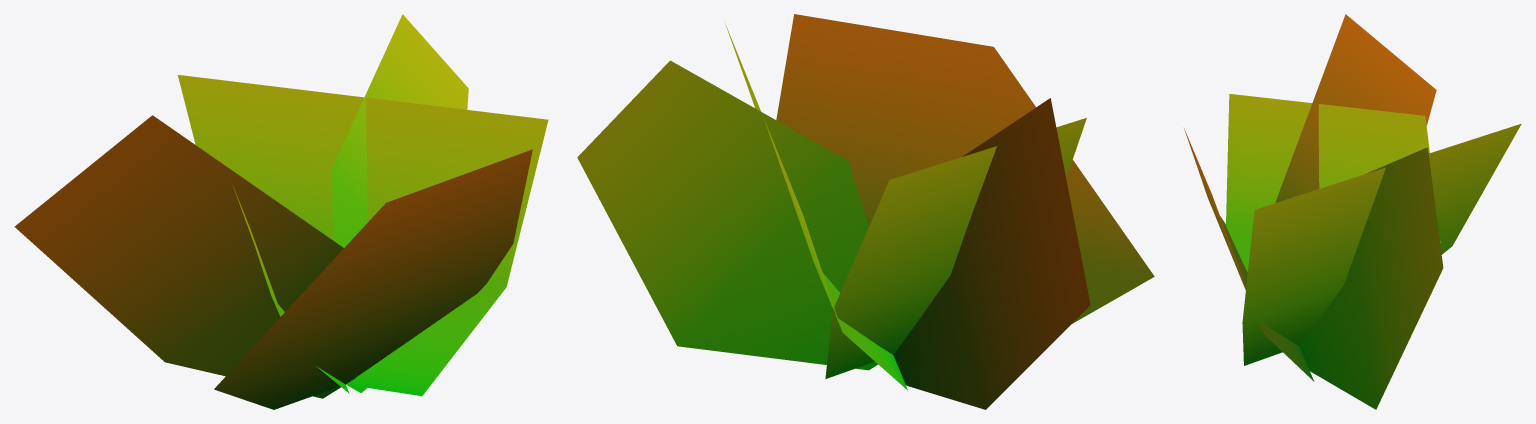
The model's file is Var3_LOD1.fbx.
3 renders of one model, left to right at view 1: azimuth 30°, elevation 25°; view 2: azimuth 150°, elevation 25°; view 3: azimuth 270°, elevation 25°, orthographic. The views are drawn at different scales.
Visible parts, largest first — view 1: _4e2f_Var3_LOD1; view 2: _4e2f_Var3_LOD1; view 3: _4e2f_Var3_LOD1.
Boxes of the visible parts, bbox=[...] form: _4e2f_Var3_LOD1: bbox=[14, 14, 548, 409]; _4e2f_Var3_LOD1: bbox=[577, 14, 1154, 409]; _4e2f_Var3_LOD1: bbox=[1184, 14, 1521, 409].
Size of the model in its own units: 43.2 by 27.73 by 31.06.
